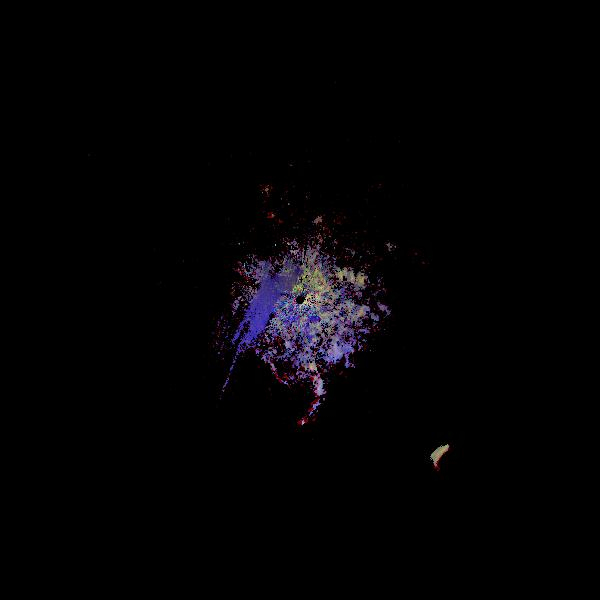roost: (249, 348, 336, 435), (429, 441, 471, 483)
